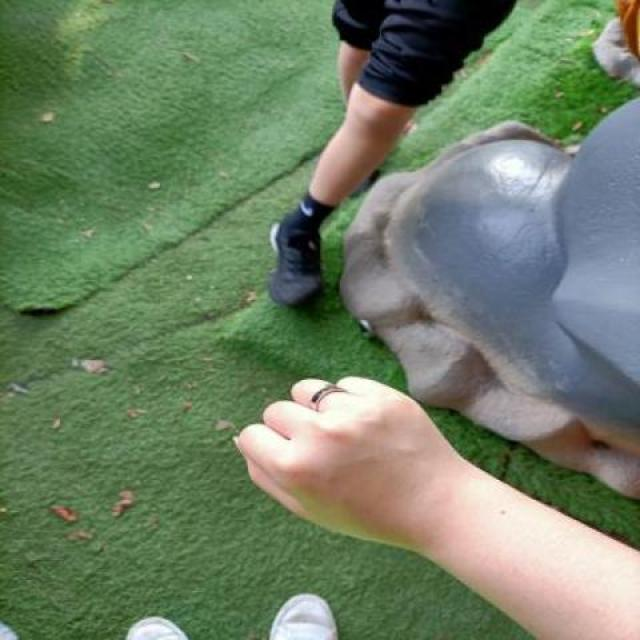fist: (233, 358, 457, 562)
